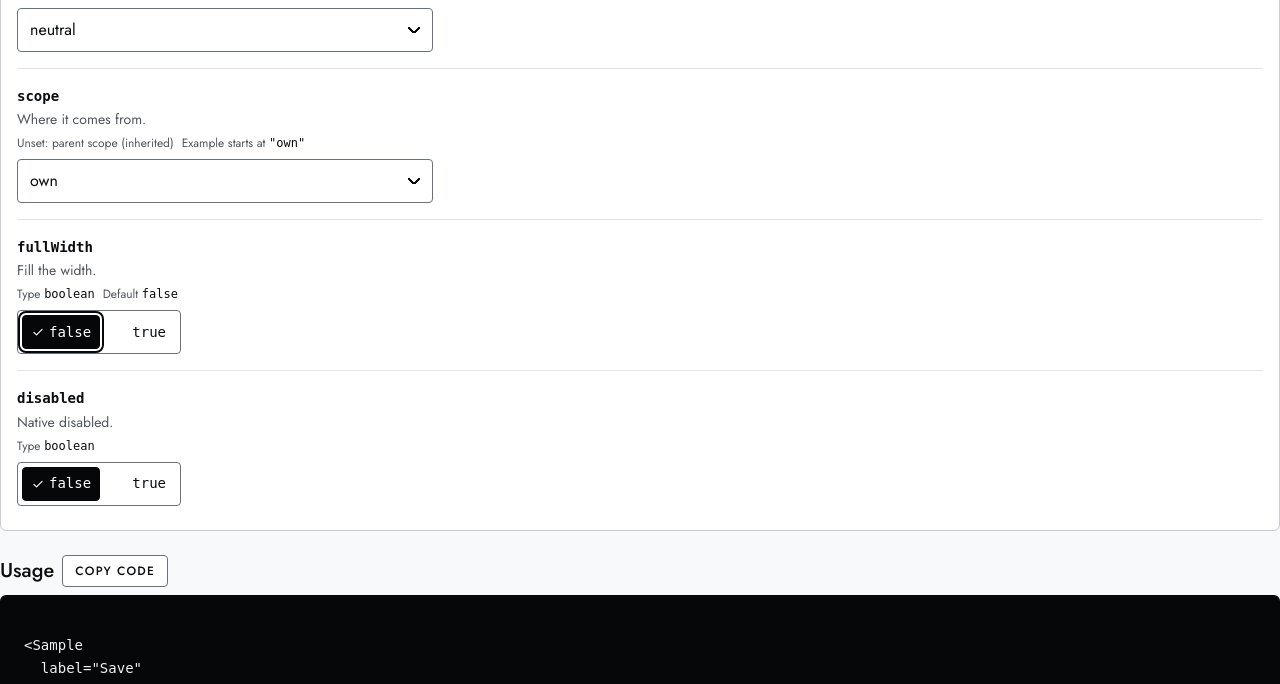
Controls table › keeps focus on the control while the keyboard changes values
The image size is (1280, 684).
(page scrolled)
Press Arrowright
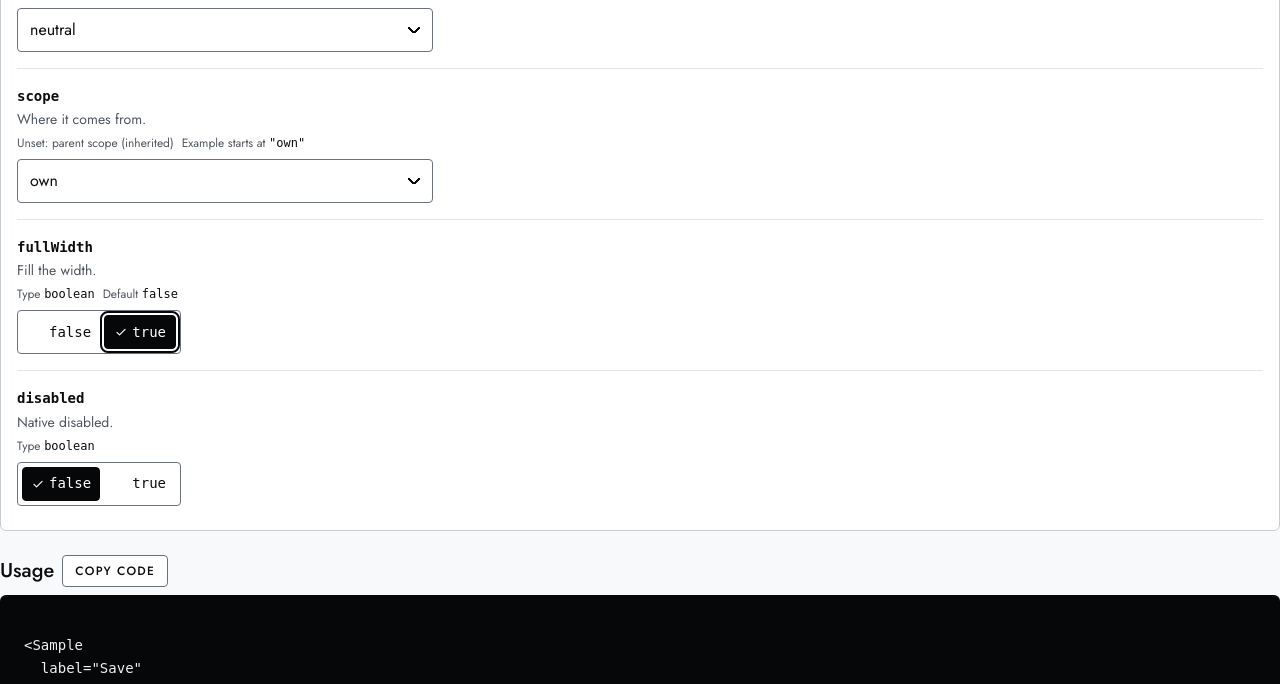
Expected: the radio button labelled "true" below "Fill the width." is checked, [104,316,176,350]
Press Arrowleft
(page scrolled)
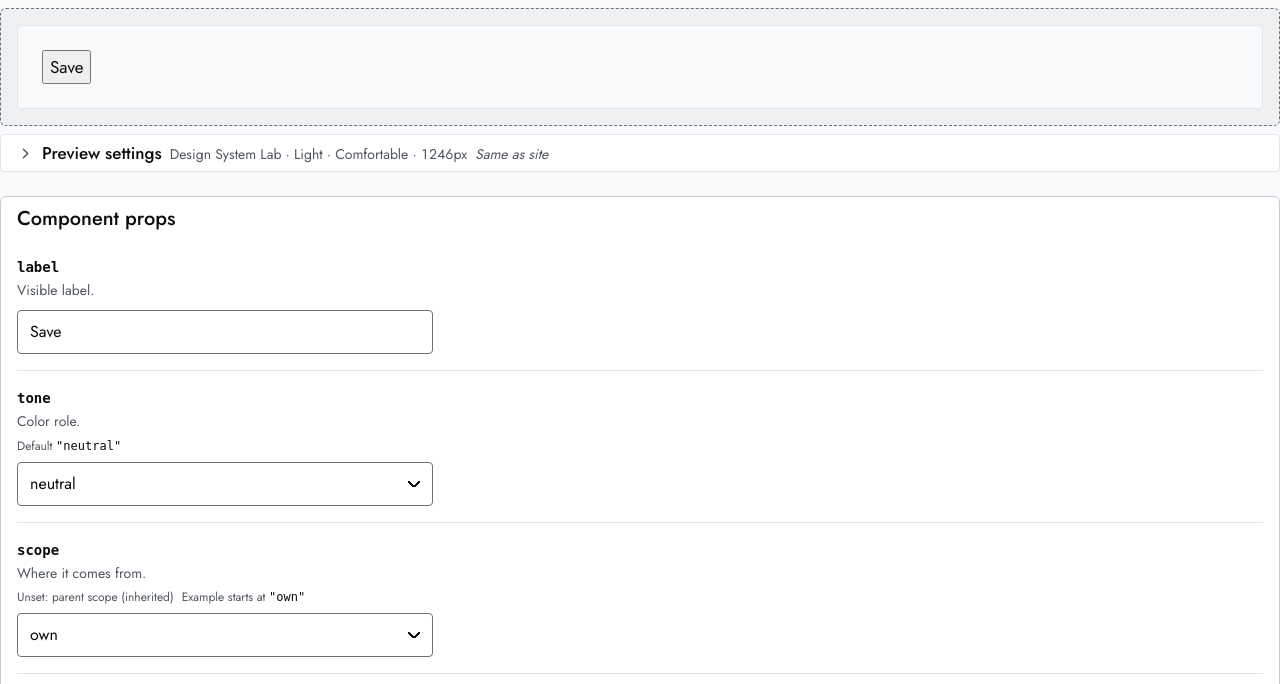
Clear the field labelled "label" at (225, 332), box [17,310,433,354]
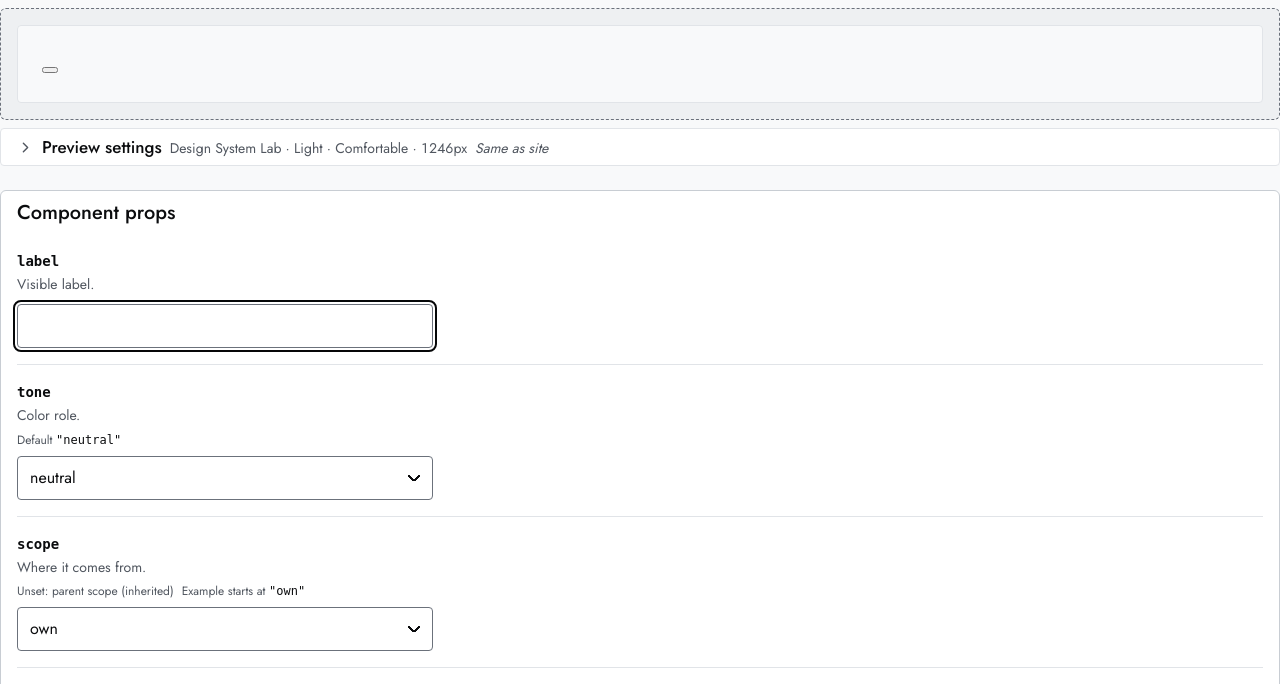
Type "Go" into the field labelled "label" at (225, 326), box [17,304,433,348]
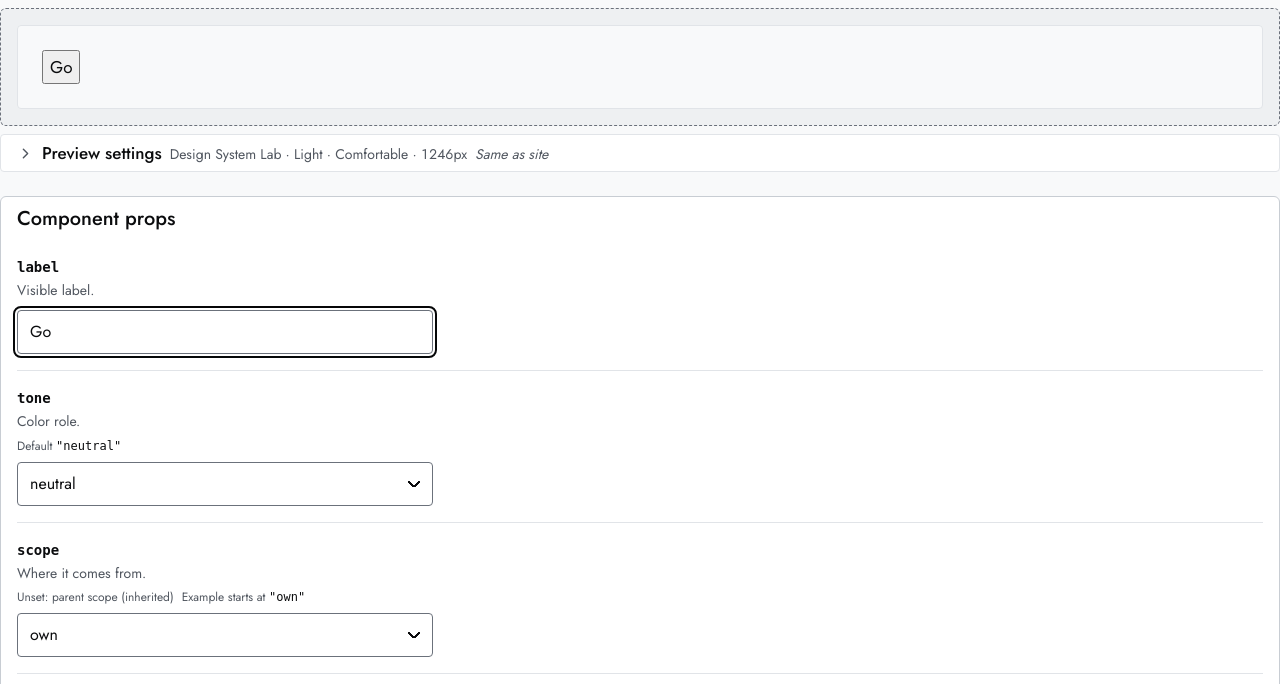
Expected: the button "Go" is shown, [42,50,80,84]
